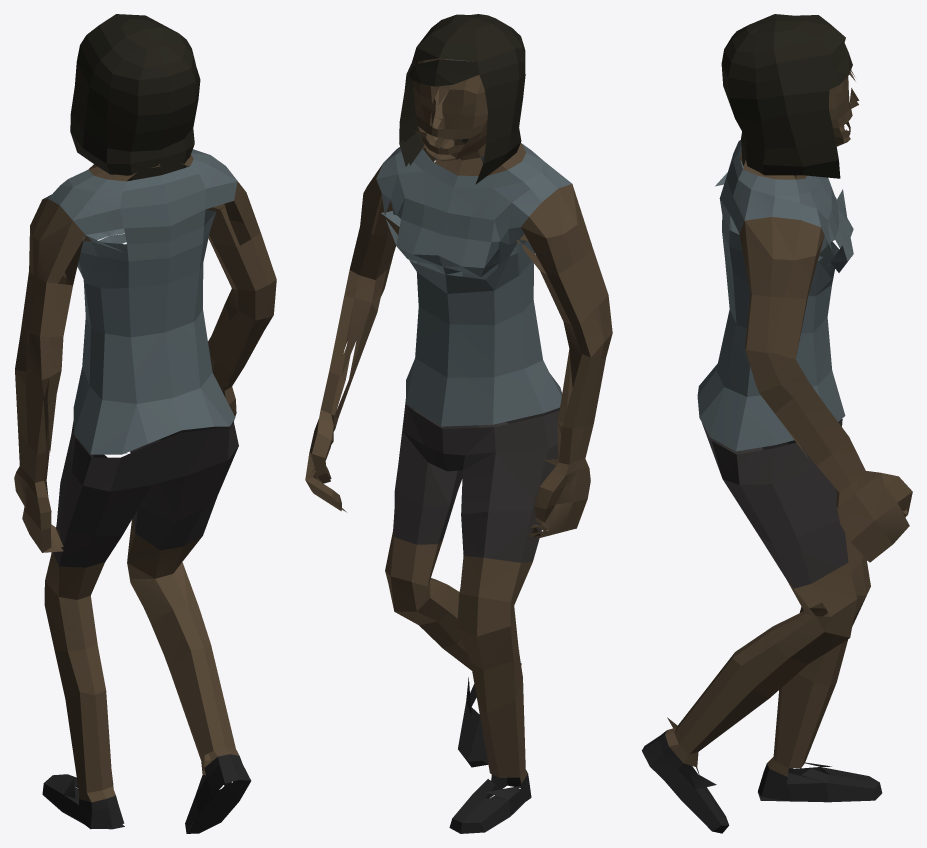
File: person_5_w2.fbx
The picture shows the model from 3 angles, left to right: view 1: azimuth 30°, elevation 25°; view 2: azimuth 150°, elevation 25°; view 3: azimuth 270°, elevation 25°; orthographic projection. The views are drawn at different scales.
Parts seen in each view (by area): view 1: BaseHuman.000; view 2: BaseHuman.000; view 3: BaseHuman.000.
Part boxes in pixels (x1,y1,x2,y2): BaseHuman.000: (14, 14, 276, 833); BaseHuman.000: (305, 14, 612, 833); BaseHuman.000: (642, 14, 912, 833).
Bounding box in the file's own units: 0.3316 × 1 × 0.3082.
